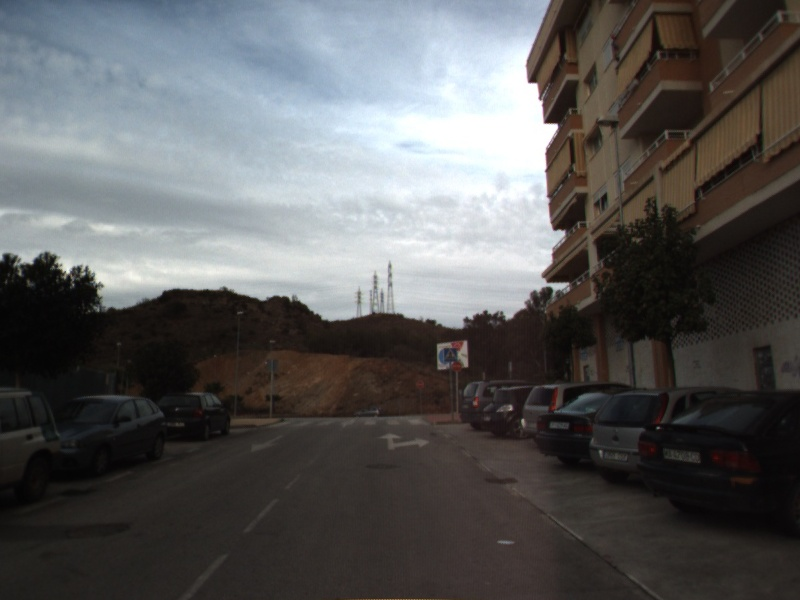STRAIGHT_RIGHT: (375, 430, 432, 452)
